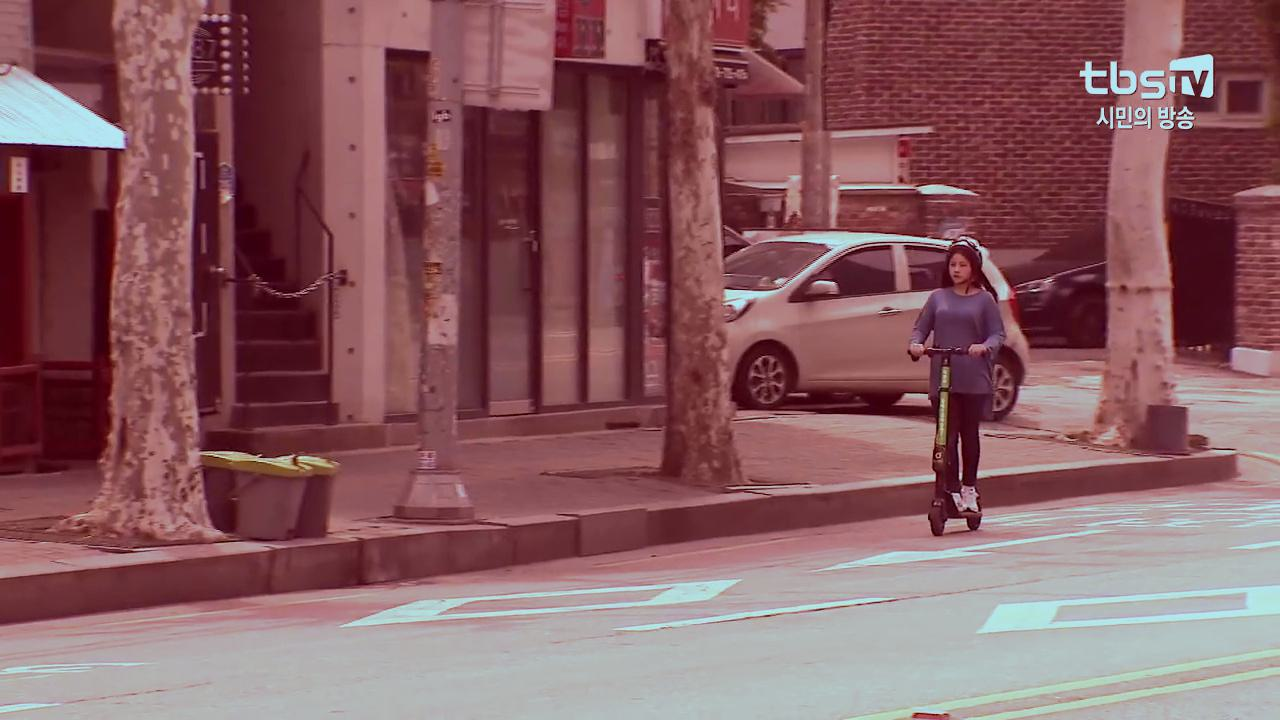helmet: (906, 233, 1008, 536)
